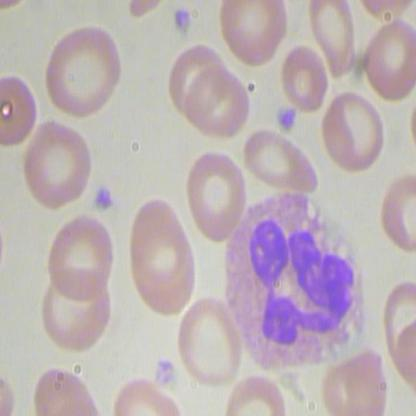Platelets: (149, 356, 181, 392), (91, 182, 119, 218), (170, 5, 195, 42), (272, 103, 296, 134)
RBC: (124, 198, 200, 319), (17, 117, 95, 212), (43, 21, 121, 116), (183, 146, 248, 244), (176, 293, 242, 388), (43, 213, 115, 299), (41, 266, 113, 352), (240, 124, 318, 198), (182, 59, 249, 138), (321, 91, 384, 172), (361, 16, 415, 107), (219, 1, 290, 70), (309, 1, 361, 82), (282, 43, 330, 121)
WBC: (214, 183, 368, 378)
